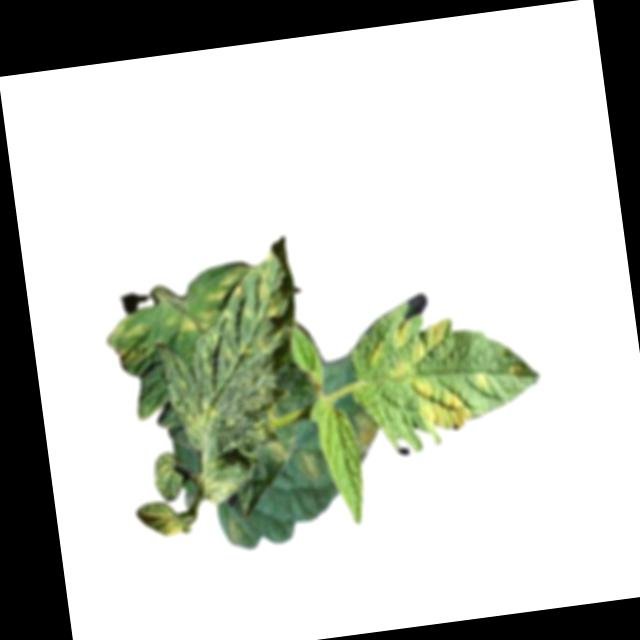Leaf_Mold: (366, 313, 457, 386), (408, 372, 471, 436), (241, 253, 294, 324), (105, 316, 155, 367), (175, 390, 222, 438), (138, 499, 189, 541), (166, 301, 219, 336), (347, 411, 381, 464), (200, 269, 238, 303), (263, 435, 294, 467), (292, 449, 321, 480)
